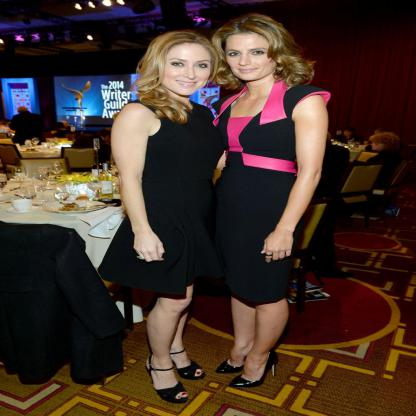face: (160, 45, 213, 96), (224, 33, 278, 82)
